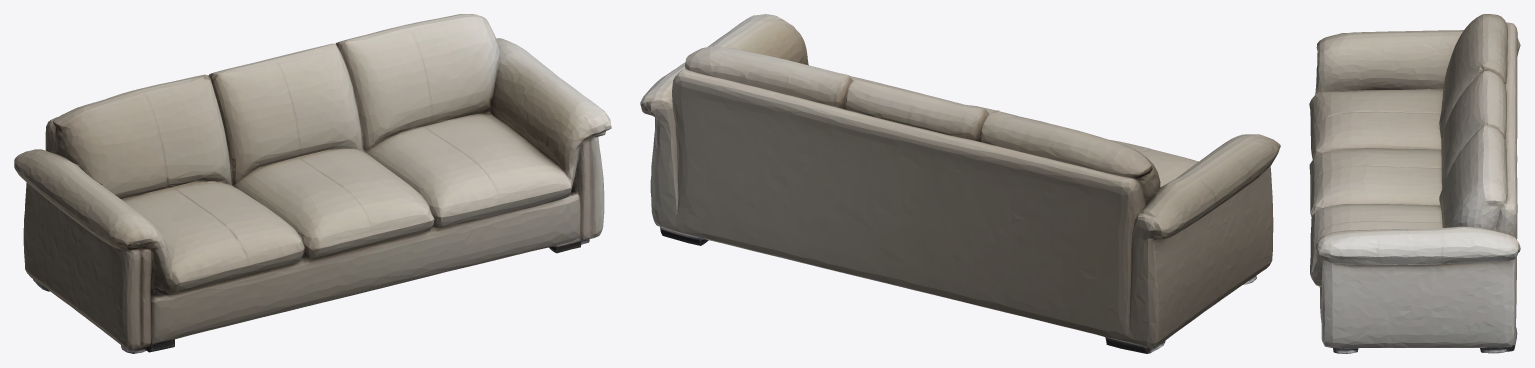
Rendered from ast_8b053762e304.glb.
The picture shows the model from 3 angles, left to right: view 1: azimuth 30°, elevation 25°; view 2: azimuth 150°, elevation 25°; view 3: azimuth 270°, elevation 25°; orthographic projection. The views are drawn at different scales.
Visible parts, largest first — view 1: geometry_0; view 2: geometry_0; view 3: geometry_0.
Part boxes in pixels (x1,y1,x2,y2): geometry_0: [14, 14, 611, 353]; geometry_0: [640, 14, 1280, 353]; geometry_0: [1309, 14, 1520, 353].
Bounding box in the file's own units: 0.9985 × 0.3394 × 0.411.
1 material, 1 textured.
